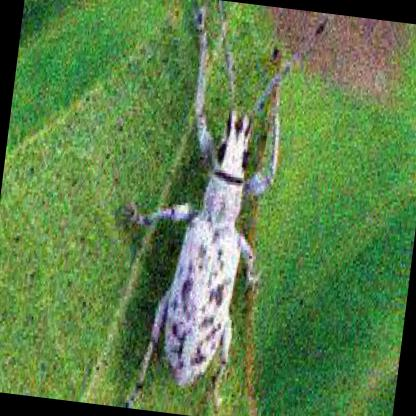ash weevil: (130, 11, 279, 391)
